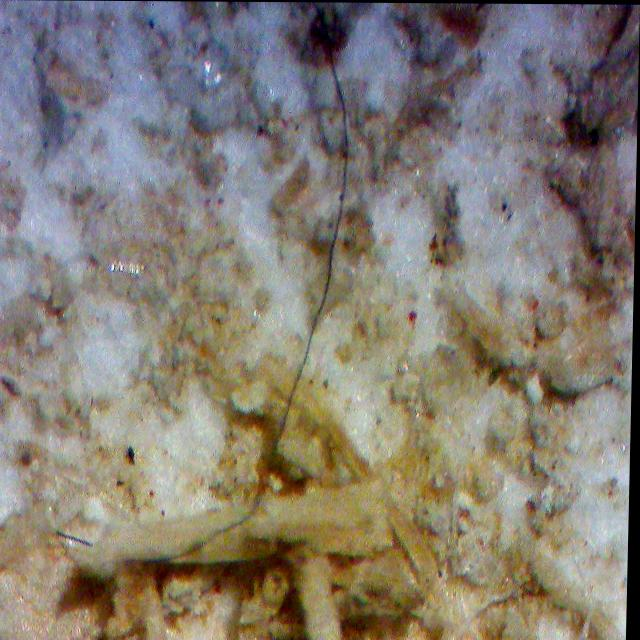microplastic: (272, 28, 362, 468), (59, 533, 96, 547)
